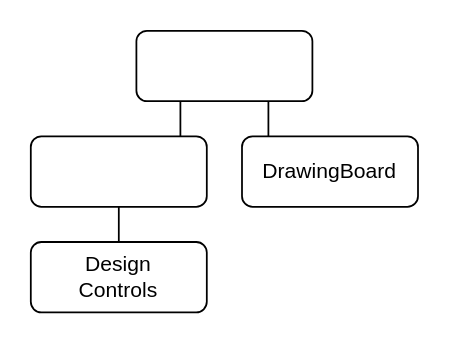
Image size: 449x343. Some labels were removed from this diagram. Here are the shapes that lost their labels. From the top down, the centre of each, then its label:
At pixel 223 65: "Canvas".
At pixel 118 171: "Toolbar".
